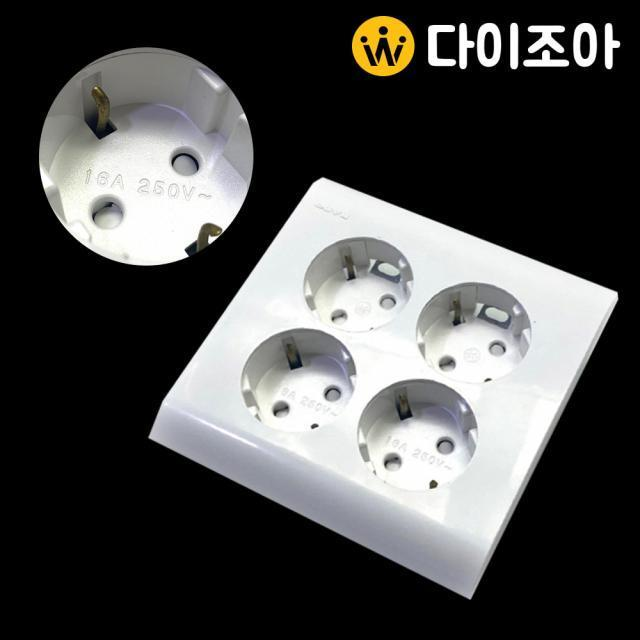typeb: (115, 151, 633, 618)
